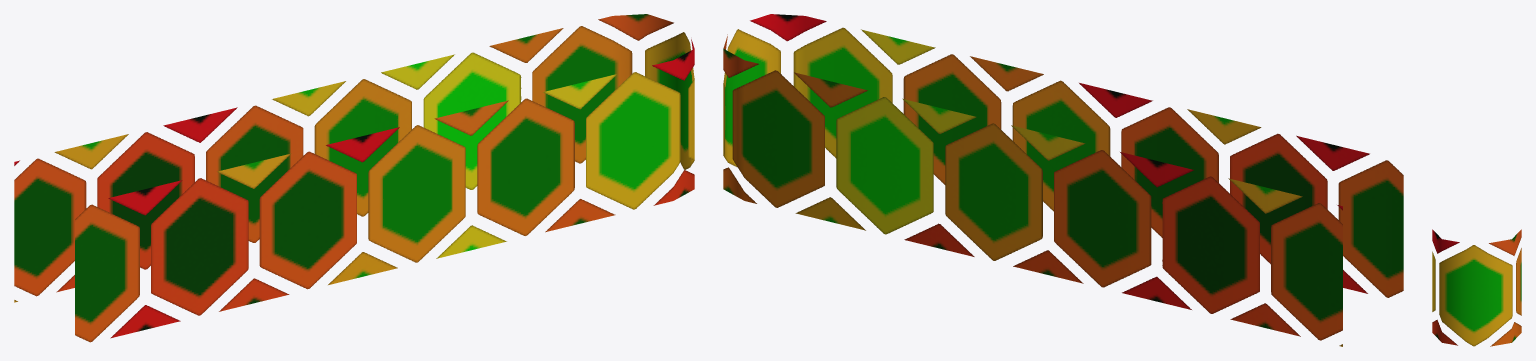
Rendered from hologram_upgradefield_01_geo.fbx.
3 views of the same model, side by side, from view 1: azimuth 30°, elevation 25°; view 2: azimuth 150°, elevation 25°; view 3: azimuth 270°, elevation 25° (orthographic). The views are drawn at different scales.
Parts seen in each view (by area): view 1: hologram_upgraderzone_geo; view 2: hologram_upgraderzone_geo; view 3: hologram_upgraderzone_geo.
Part boxes in pixels (x1,y1,x2,y2): hologram_upgraderzone_geo: [14, 14, 694, 342]; hologram_upgraderzone_geo: [723, 14, 1403, 346]; hologram_upgraderzone_geo: [1432, 229, 1521, 346].
Size of the model in its own units: 0.6883 by 0.1451 by 0.1133.
